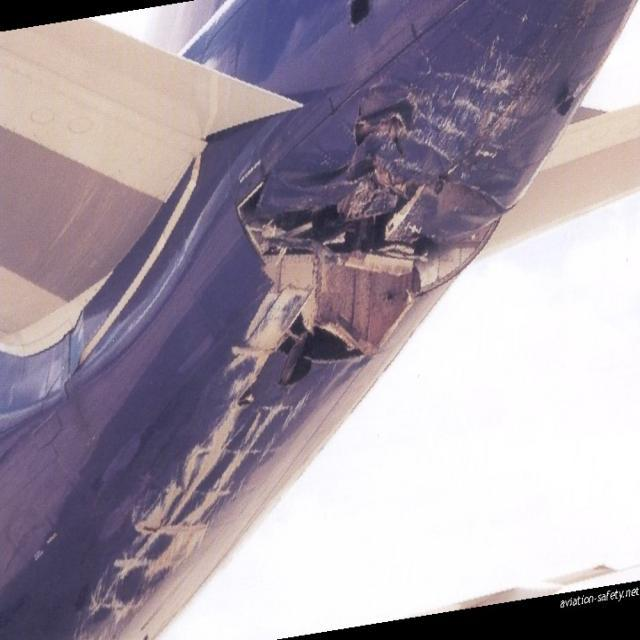crack: (238, 103, 438, 389)
